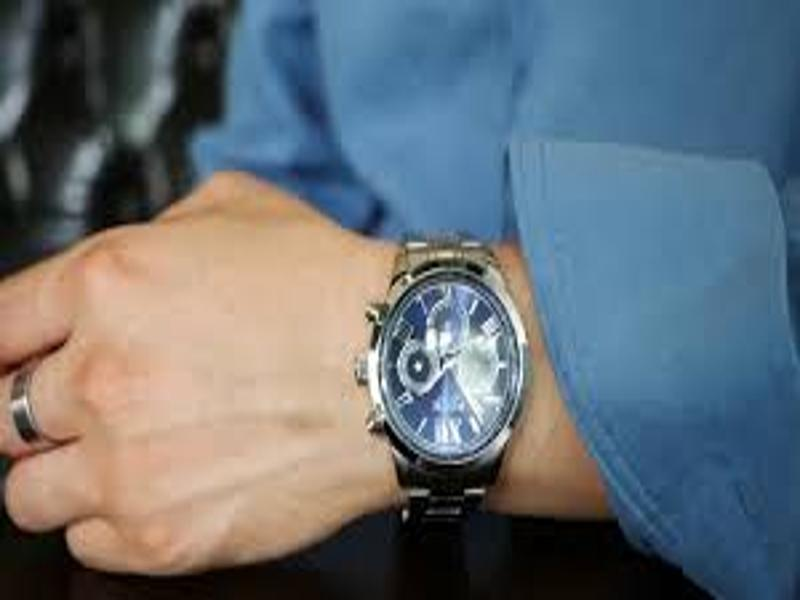watch: (350, 230, 531, 519)
